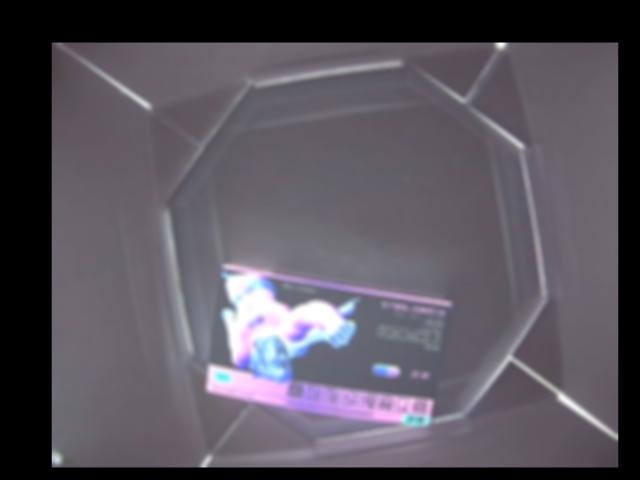Medicine: (203, 264, 452, 428)
